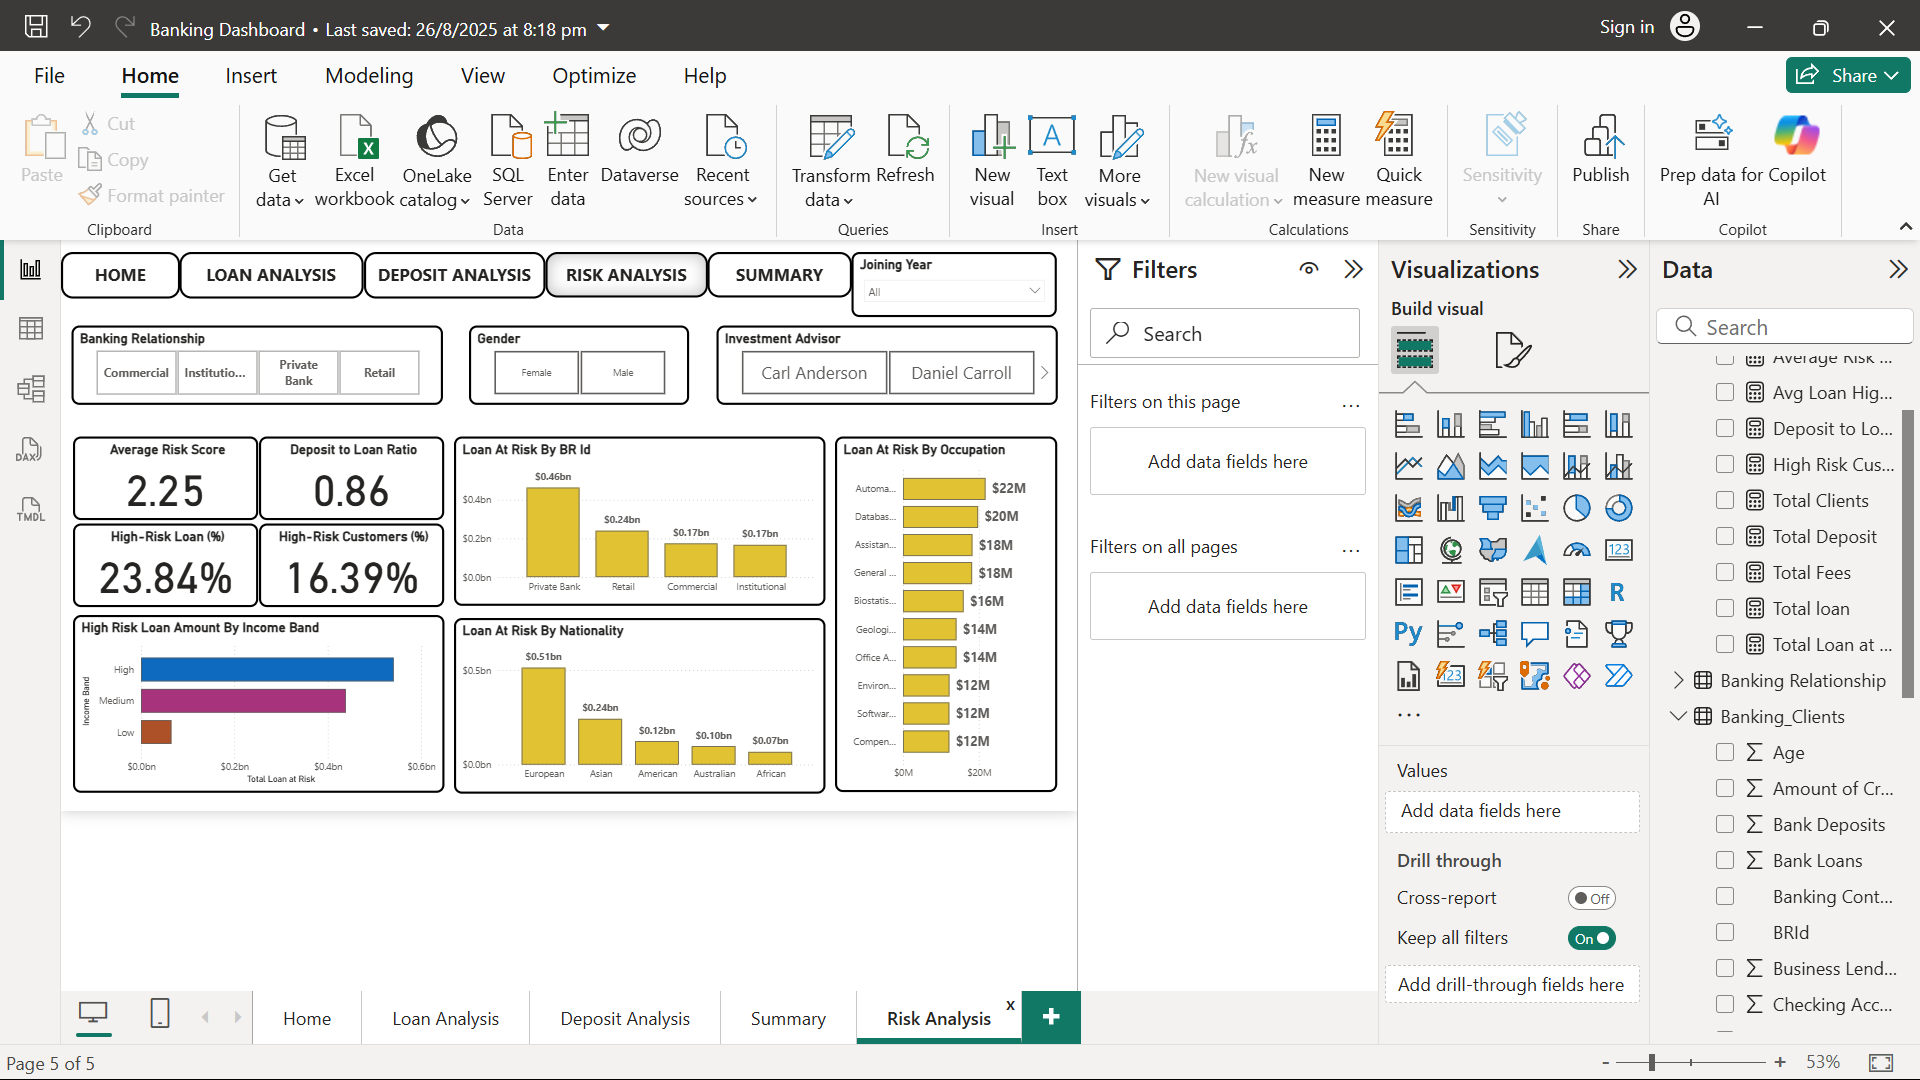

What the dashboard file says about the page in this screenshot:
{"tool":"powerbi","page":{"name":"Risk Analysis","canvas":[1280,720],"ordinal":4},"visuals":[{"type":"card","title":"Average Risk Score","fields":{"Values":["Module.Average Risk Score"]},"box":[15,248.3,233.3,105],"z":0},{"type":"slicer","title":"Joining Year","fields":{"Values":["Banking_Clients.Joined Bank.Variation.Date Hierarchy.Year"]},"box":[996.3,15.1,258.9,81.8],"z":1000},{"type":"textbox","box":[0,15.7,150,58.6],"z":2000},{"type":"textbox","box":[381.4,15.7,228.6,58.6],"z":3000},{"type":"card","title":"Deposit to Loan Ratio","fields":{"Values":["Module.Deposit to Loan Ratio"]},"box":[250,248.3,233.3,105],"z":4000},{"type":"card","title":"High-Risk Loan  (%)","fields":{"Values":["Module.% % of Risk Loans vs Total Loans"]},"box":[15,356.7,233.3,105],"z":5000},{"type":"card","title":"High-Risk Customers (%)","fields":{"Values":["Module.% High Risk Customers"]},"box":[250,356.7,233,105],"z":6000},{"type":"textbox","box":[150,15,231.7,58.3],"z":7000},{"type":"textbox","box":[814.6,15.1,181.7,57.5],"z":8000},{"type":"barChart","title":"High Risk Loan Amount By Income Band","fields":{"Category":["Banking_Clients.Income Band"],"Y":["Module.Total Loan at Risk"]},"box":[15.1,472.4,467.9,224.1],"z":9000},{"type":"clusteredColumnChart","title":"Loan At Risk By  BR Id","fields":{"Category":["Banking Relationship.Banking Relationship"],"Y":["Module.Total Loan at Risk"]},"box":[495.1,248.3,467.9,213.5],"z":10000},{"type":"columnChart","title":"Loan At Risk By Nationality","fields":{"Category":["Banking_Clients.Nationality"],"Y":["Module.Total Loan at Risk"]},"box":[495.1,475.5,467.9,221.1],"z":11000},{"type":"barChart","title":"Loan At Risk By Occupation","fields":{"Category":["Banking_Clients.Occupation"],"Y":["Module.Total Loan at Risk"]},"box":[975.1,248.3,280.1,448.2],"z":12000},{"type":"slicer","title":"Banking Relationship","fields":{"Values":["Banking Relationship.Banking Relationship"]},"box":[13.6,107.5,467.9,99.9],"z":13000},{"type":"slicer","title":"Gender","fields":{"Values":["Gender.Gender"]},"box":[514.8,107.5,277.1,99.9],"z":14000},{"type":"slicer","title":"Investment Advisor","fields":{"Values":["Investment Advisor.Investment Advisor"]},"box":[825.2,107.5,430,99.9],"z":15000},{"type":"actionButton","box":[0,15.1,149.9,59.1],"z":16000},{"type":"actionButton","box":[149.9,15.1,231.7,59.1],"z":17000},{"type":"actionButton","box":[814.6,13.6,181.7,59.1],"z":18000},{"type":"textbox","box":[610.2,15.1,204.4,57.5],"z":18001},{"type":"actionButton","box":[383.1,16.7,227.1,56],"z":18002}]}

Visuals, with their boxes on the page's 1280x720 design canvas (x1, y1, x2, y2). These are canvas units, not pixel positions in the 1920x1080 screenshot, which may show the page scaled, cropped or inside an application window:
"Average Risk Score" card: box=[15, 248, 248, 353]
"Joining Year" slicer: box=[996, 15, 1255, 97]
textbox: box=[0, 16, 150, 74]
textbox: box=[381, 16, 610, 74]
"Deposit to Loan Ratio" card: box=[250, 248, 483, 353]
"High-Risk Loan  (%)" card: box=[15, 357, 248, 462]
"High-Risk Customers (%)" card: box=[250, 357, 483, 462]
textbox: box=[150, 15, 382, 73]
textbox: box=[815, 15, 996, 73]
"High Risk Loan Amount By Income Band" barChart: box=[15, 472, 483, 696]
"Loan At Risk By  BR Id" clusteredColumnChart: box=[495, 248, 963, 462]
"Loan At Risk By Nationality" columnChart: box=[495, 476, 963, 697]
"Loan At Risk By Occupation" barChart: box=[975, 248, 1255, 696]
"Banking Relationship" slicer: box=[14, 108, 482, 207]
"Gender" slicer: box=[515, 108, 792, 207]
"Investment Advisor" slicer: box=[825, 108, 1255, 207]
actionButton: box=[0, 15, 150, 74]
actionButton: box=[150, 15, 382, 74]
actionButton: box=[815, 14, 996, 73]
textbox: box=[610, 15, 815, 73]
actionButton: box=[383, 17, 610, 73]
